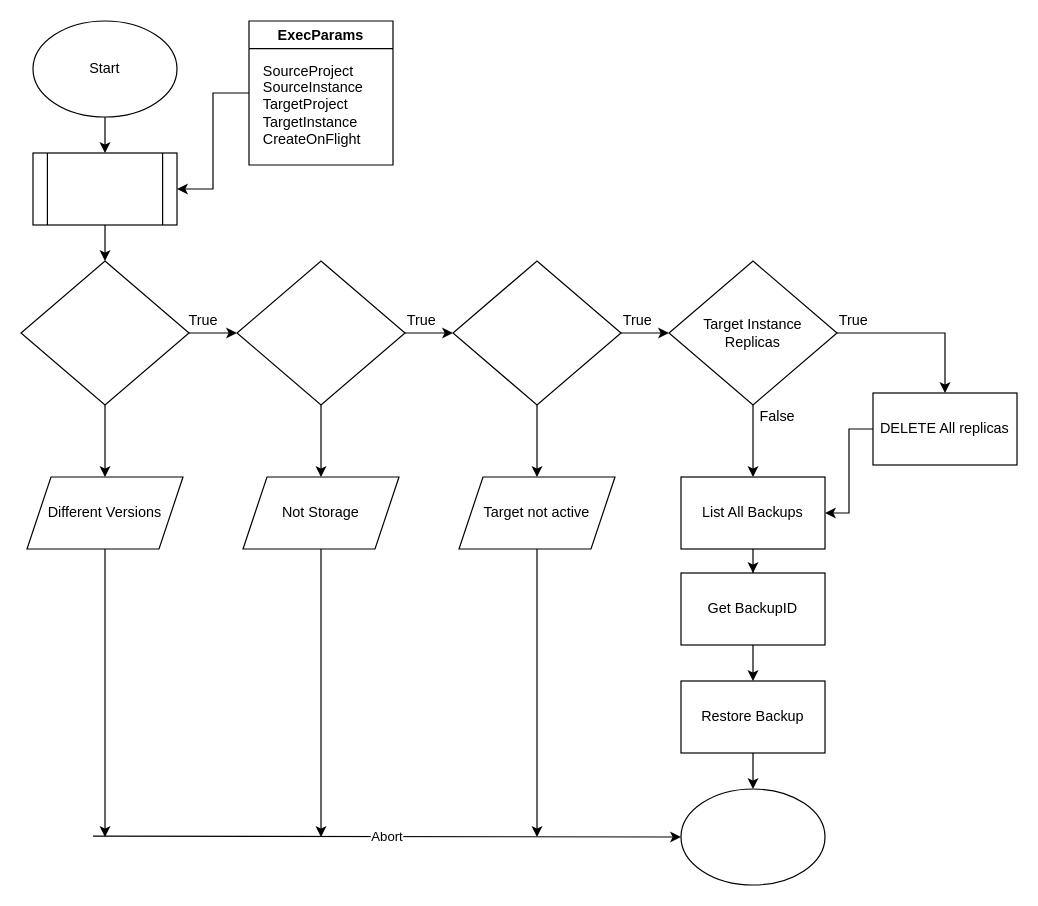
Image size: 1038x906. Some labels were removed from this diagram. Here are the shapes that lost their labels. From the top down, the centre of each, then its label:
point (104, 188): Read ExecParams
point (104, 332): Instance Version Source=Target
point (320, 332): Storage Capacity Target >= Source
point (536, 332): Target Instance Status = RUNNABLE
point (752, 836): End
